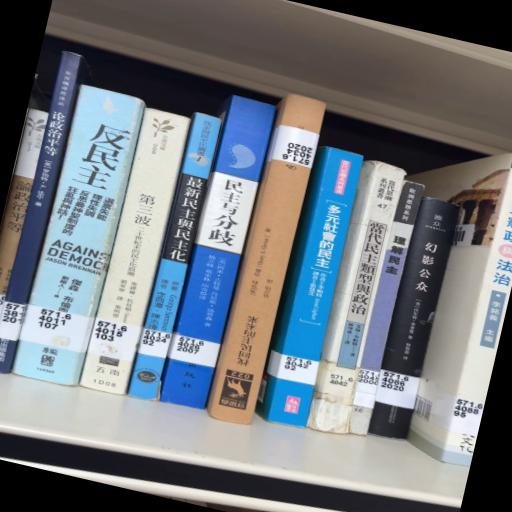reverse: (208, 95, 326, 425)
